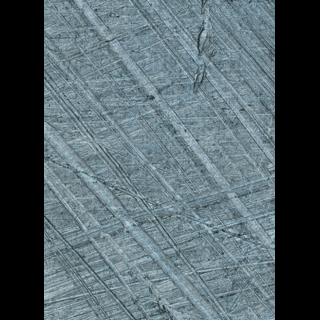d: (188, 0, 220, 97)
